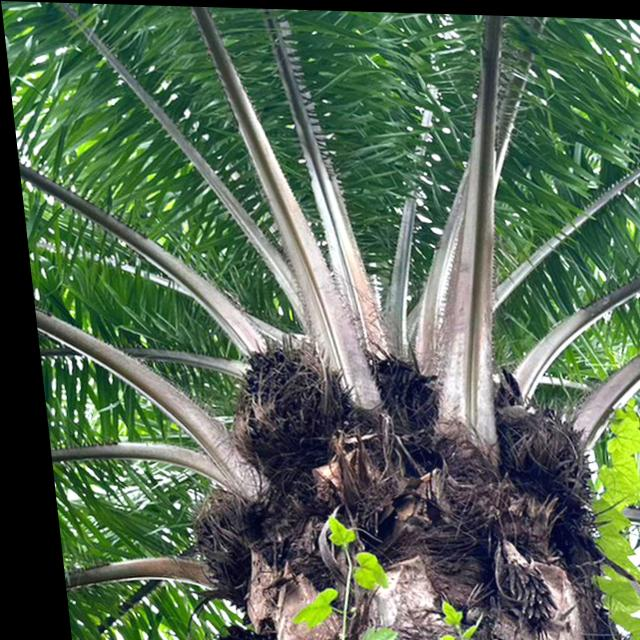unripe: (206, 326, 359, 482)
